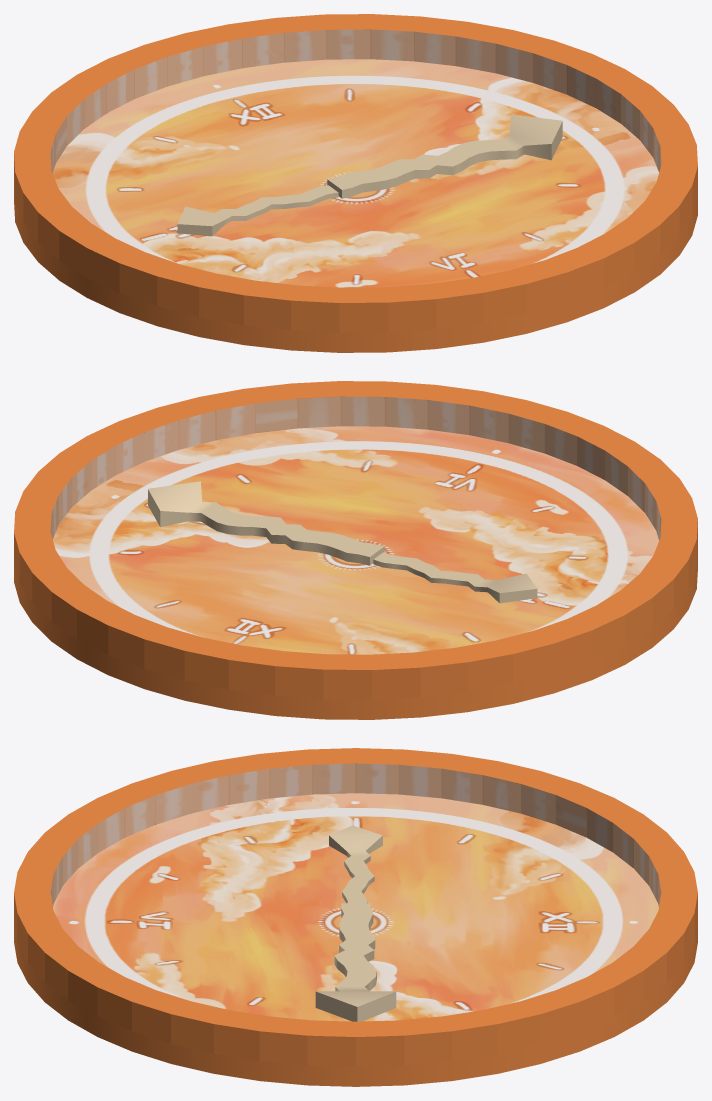
The model's file is clock.fbx.
The picture shows the model from 3 angles, top to bottom: view 1: azimuth 30°, elevation 25°; view 2: azimuth 150°, elevation 25°; view 3: azimuth 270°, elevation 25°; orthographic projection.
Visible parts, largest first — view 1: relógio, ponteiro_1, ponteiro_2; view 2: relógio, ponteiro_1, ponteiro_2; view 3: relógio, ponteiro_1, ponteiro_2.
Boxes of the visible parts, x1=… form: relógio: x1=14, y1=14, x2=697, y2=352; ponteiro_1: x1=327, y1=114, x2=562, y2=198; ponteiro_2: x1=177, y1=185, x2=338, y2=236; relógio: x1=14, y1=381, x2=697, y2=719; ponteiro_1: x1=148, y1=481, x2=384, y2=565; ponteiro_2: x1=373, y1=552, x2=537, y2=603; relógio: x1=14, y1=748, x2=697, y2=1086; ponteiro_1: x1=315, y1=903, x2=396, y2=1021; ponteiro_2: x1=329, y1=825, x2=382, y2=903.
Bounding box in the file's own units: 14 × 1.13 × 14.
Materials: 2 (1 with a texture image).
